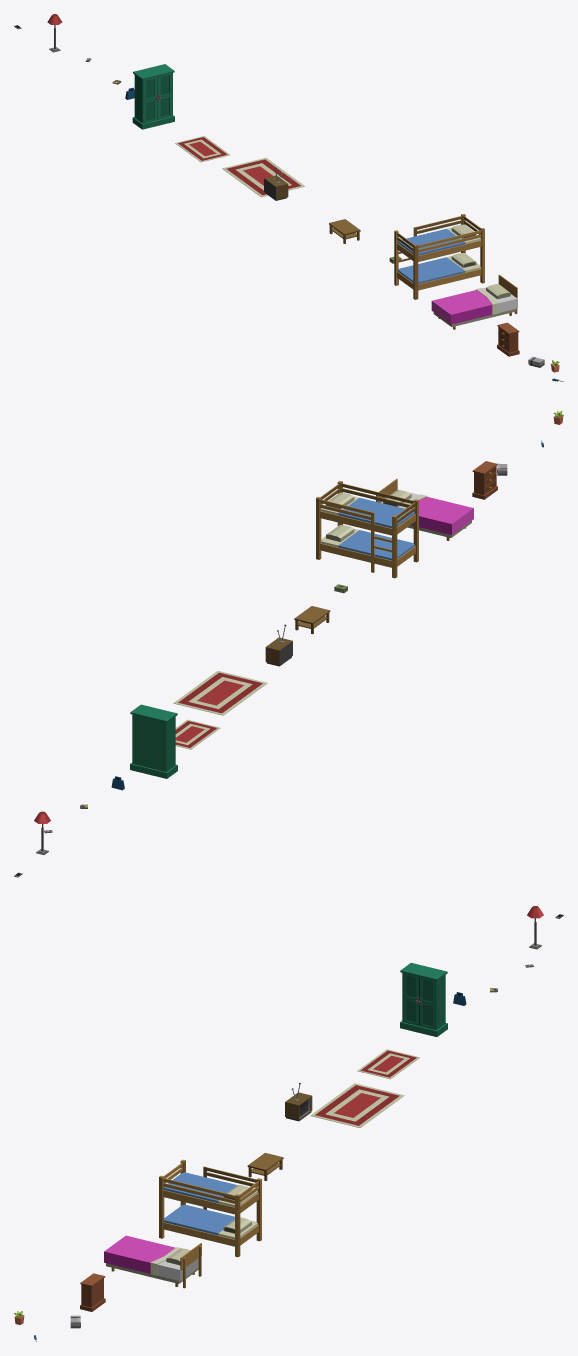
File: bedroom_subset.FBX
3 views of the same model, one above another, from view 1: azimuth 30°, elevation 25°; view 2: azimuth 150°, elevation 25°; view 3: azimuth 330°, elevation 25° (orthographic). The views are drawn at different scales.
Parts seen in each view (by area): view 1: Prop_BunkBed_Blue, Prop_SingleBed_Pink, Prop_Wardrobe_02, Prop_Rug_01, Prop_Rug_04, Prop_Draw_02, Prop_Tv_03, Prop_Small_Table_04; view 2: Prop_BunkBed_Blue, Prop_Wardrobe_02, Prop_SingleBed_Pink, Prop_Rug_01, Prop_Rug_04, Prop_Draw_02, Prop_Tv_03, Prop_Small_Table_04; view 3: Prop_BunkBed_Blue, Prop_SingleBed_Pink, Prop_Wardrobe_02, Prop_Rug_01, Prop_Rug_04, Prop_Draw_02, Prop_Tv_03, Prop_Small_Table_04.
Boxes of the visible parts, bbox=[...] form: Prop_BunkBed_Blue: bbox=[394, 214, 484, 299]; Prop_SingleBed_Pink: bbox=[431, 274, 517, 329]; Prop_Wardrobe_02: bbox=[132, 64, 174, 129]; Prop_Rug_01: bbox=[222, 158, 305, 197]; Prop_Rug_04: bbox=[175, 136, 229, 162]; Prop_Draw_02: bbox=[497, 322, 519, 356]; Prop_Tv_03: bbox=[264, 167, 288, 200]; Prop_Small_Table_04: bbox=[329, 219, 360, 243]; Prop_BunkBed_Blue: bbox=[316, 481, 418, 578]; Prop_Wardrobe_02: bbox=[130, 704, 177, 778]; Prop_SingleBed_Pink: bbox=[376, 478, 473, 540]; Prop_Rug_01: bbox=[173, 671, 267, 715]; Prop_Rug_04: bbox=[175, 719, 220, 749]; Prop_Draw_02: bbox=[472, 461, 497, 499]; Prop_Tv_03: bbox=[265, 624, 292, 666]; Prop_Small_Table_04: bbox=[294, 606, 330, 634]; Prop_BunkBed_Blue: bbox=[159, 1159, 261, 1257]; Prop_SingleBed_Pink: bbox=[104, 1235, 201, 1288]; Prop_Wardrobe_02: bbox=[400, 962, 447, 1036]; Prop_Rug_01: bbox=[310, 1083, 404, 1127]; Prop_Rug_04: bbox=[357, 1049, 419, 1079]; Prop_Draw_02: bbox=[80, 1273, 105, 1311]; Prop_Tv_03: bbox=[285, 1083, 312, 1121]; Prop_Small_Table_04: bbox=[247, 1153, 283, 1180].
Size of the model in its own units: 7091 by 3648 by 62813.
Materials: 2 (2 with a texture image).
